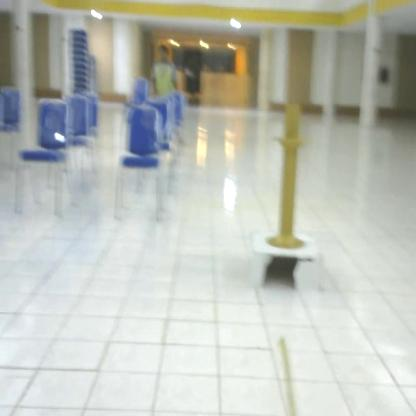pole: (257, 92, 327, 254)
